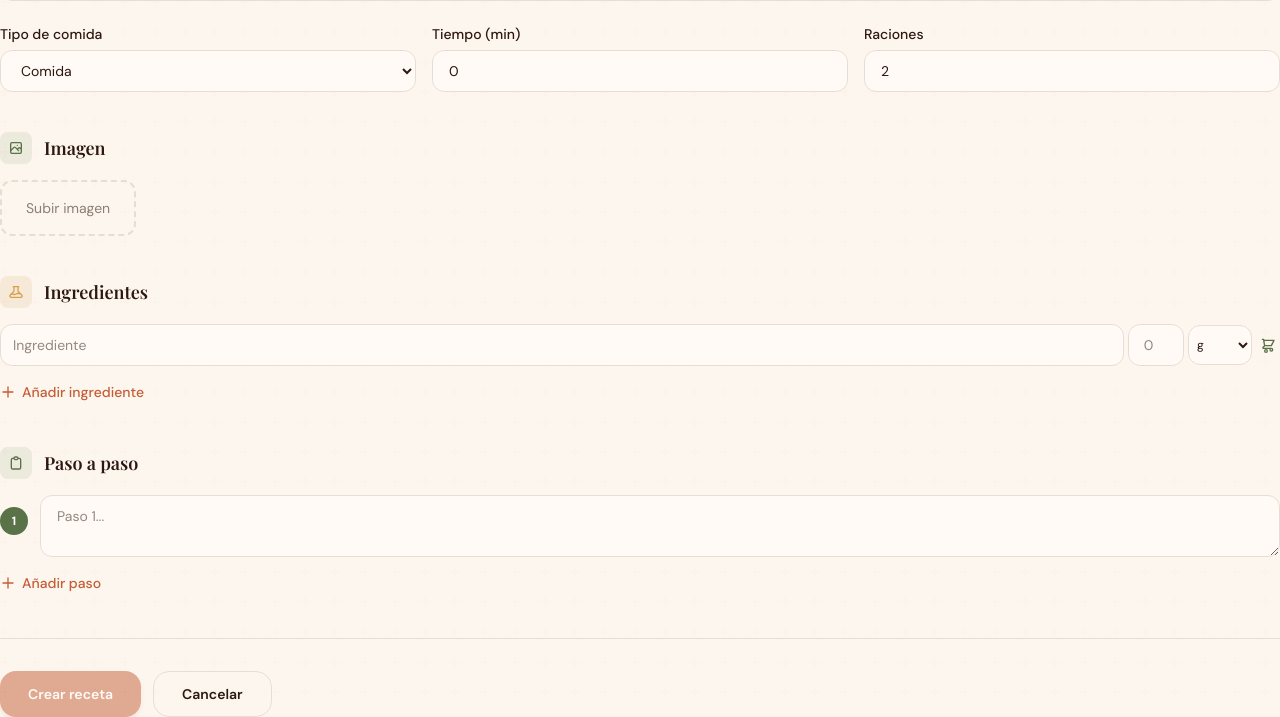
Test: RecipeForm › adds step row when clicking "Añadir paso"
(page scrolled)
Click the button "Añadir paso" at (51, 583), box x1=0 y1=573 x2=101 y2=593
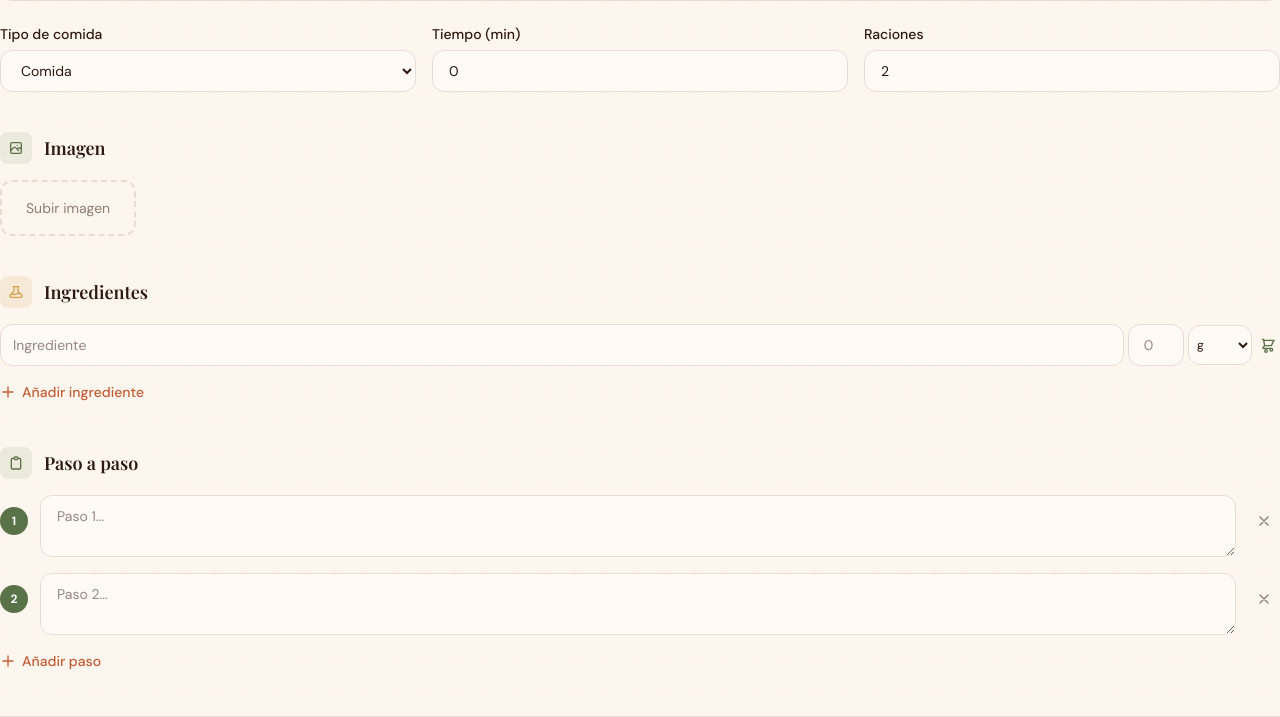
Expected: the number of text boxes with placeholder "Paso 1..." is 2, x1=40 y1=495 x2=1236 y2=557; x1=40 y1=573 x2=1236 y2=635
